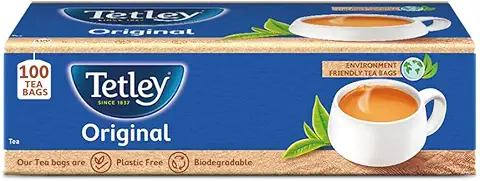Tea: (3, 2, 480, 176)
